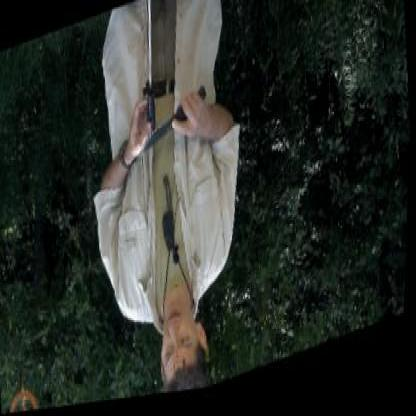knife: (138, 88, 212, 164)
